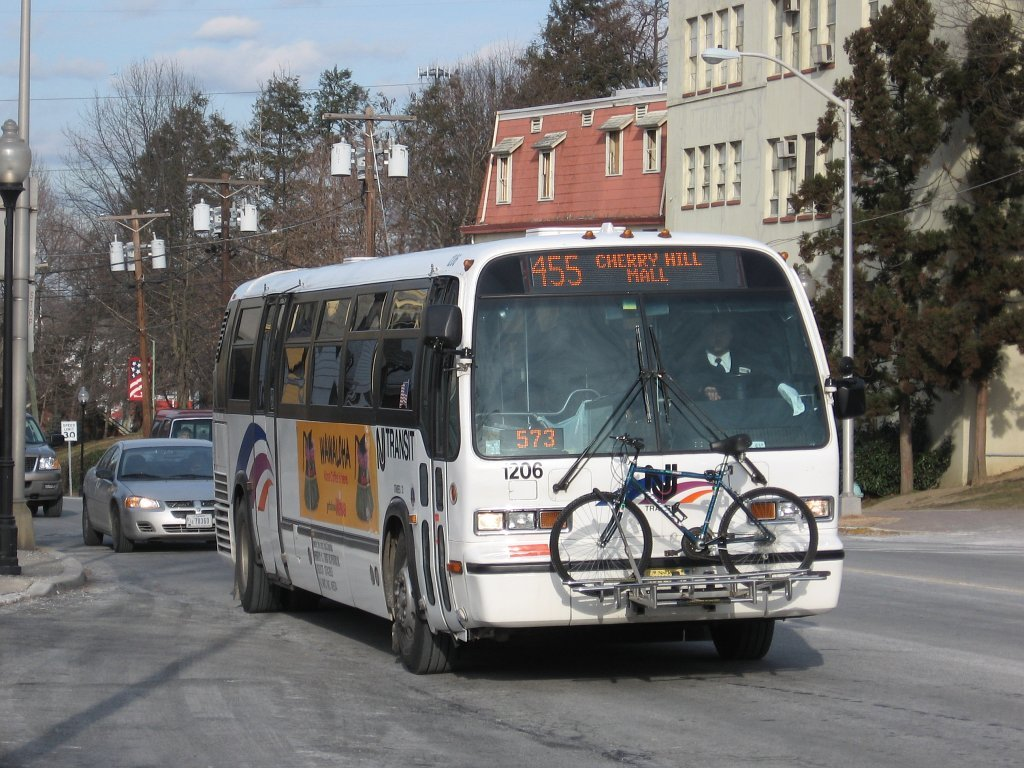bus: (211, 222, 846, 675)
